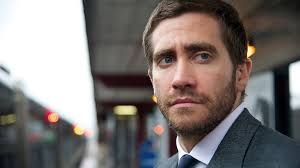s.white: (192, 61, 230, 103)
